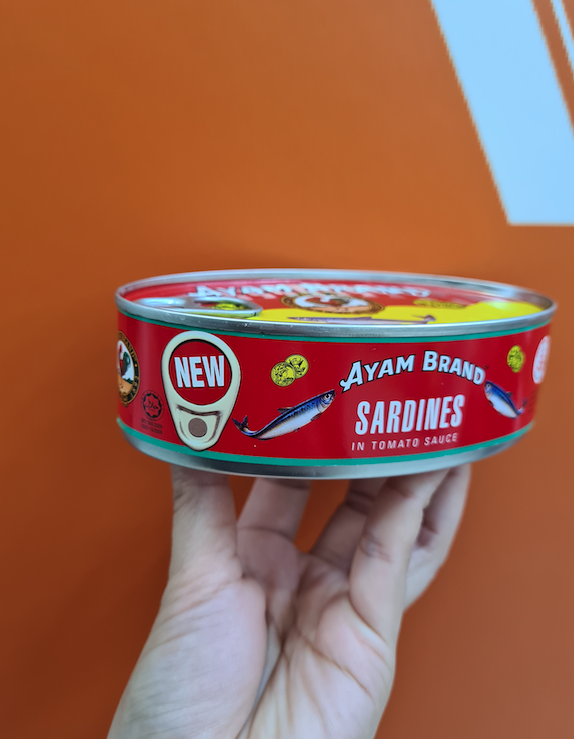Canned_Sardines_and_Mackerel: (116, 280, 547, 459)
